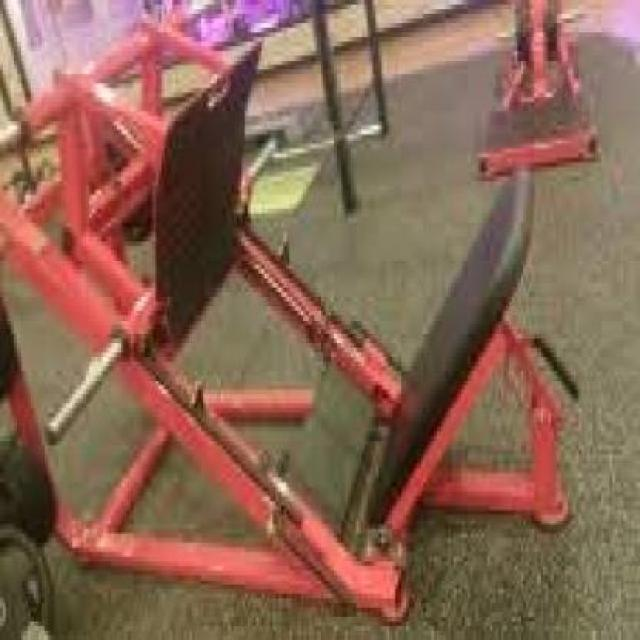leg press: (3, 0, 580, 640)
